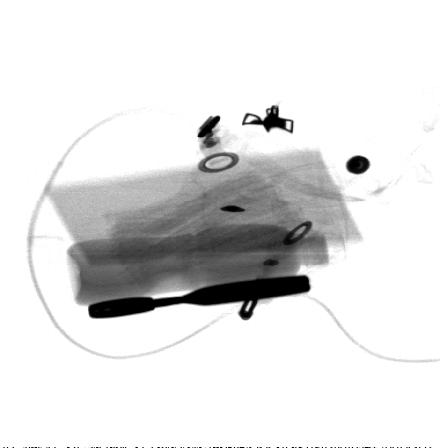Pliers: (87, 274, 311, 319)
